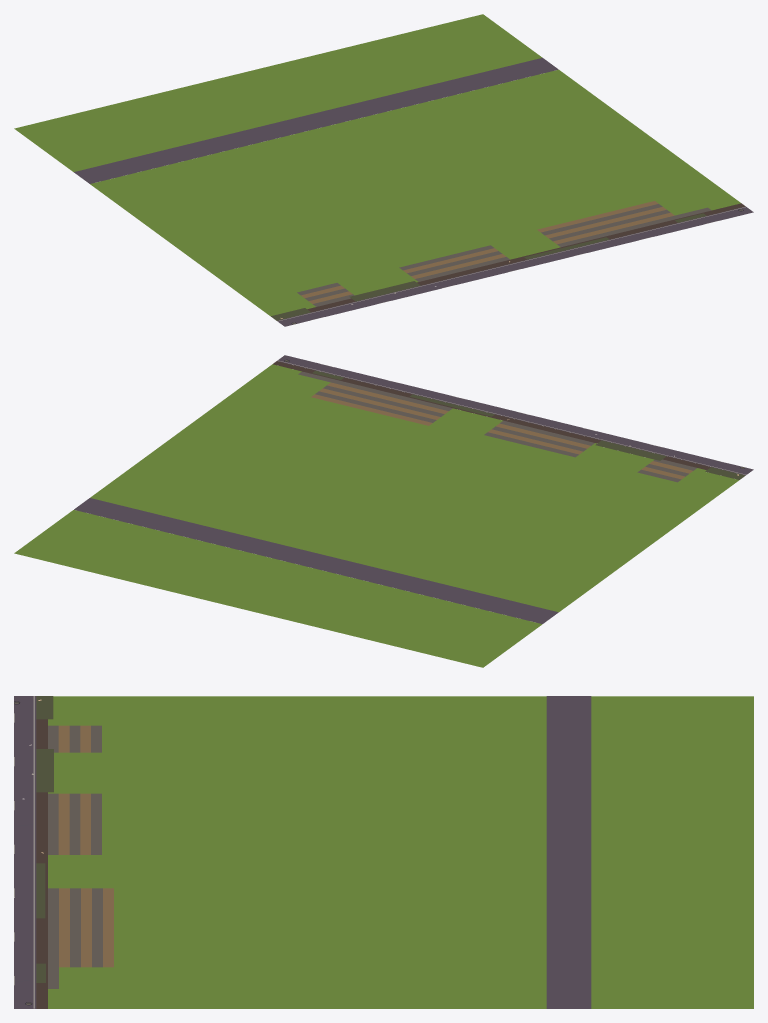
File: cure-11-2.glb
The picture shows the model from 3 angles, top to bottom: view 1: azimuth 30°, elevation 25°; view 2: azimuth 150°, elevation 25°; view 3: azimuth 270°, elevation 25°; orthographic projection. The views are drawn at different scales.
Parts seen in each view (by area): view 1: cure-11-2; view 2: cure-11-2; view 3: cure-11-2.
Boxes of the visible parts, x1,y1,x2,y2 form: cure-11-2: [14, 14, 753, 326]; cure-11-2: [14, 355, 753, 667]; cure-11-2: [14, 696, 753, 1008].
Bounding box in the file's own units: 100 × 0.017 × 100.
